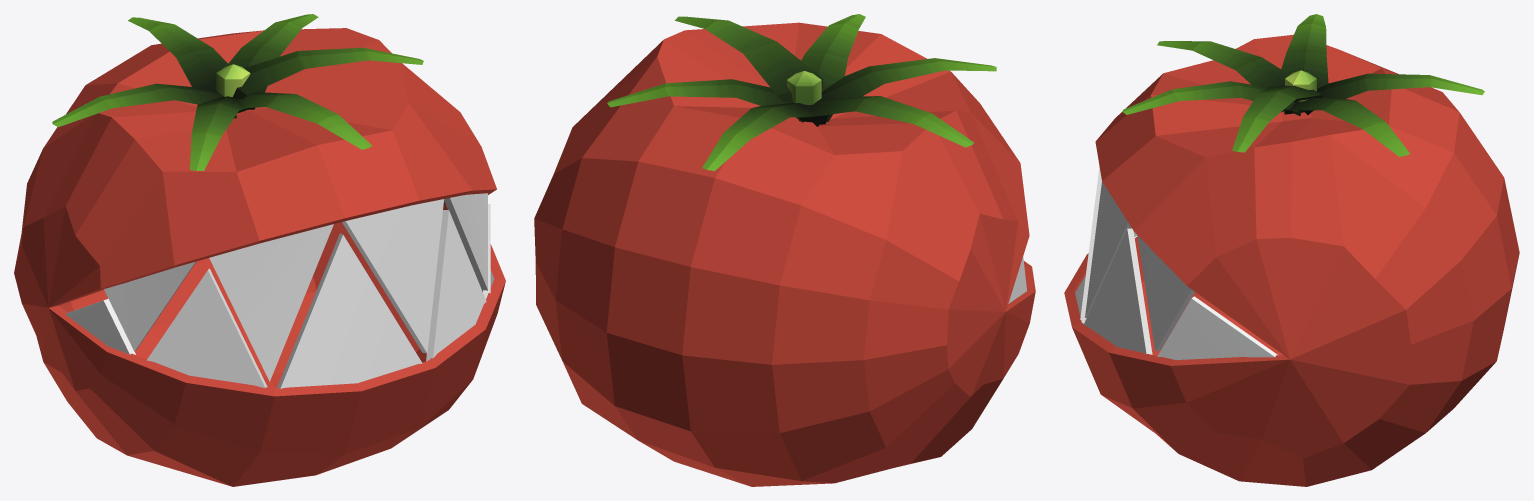
Rendered from Tomato_monster.fbx.
The picture shows the model from 3 angles, left to right: view 1: azimuth 30°, elevation 25°; view 2: azimuth 150°, elevation 25°; view 3: azimuth 270°, elevation 25°; orthographic projection. The views are drawn at different scales.
Visible parts, largest first — view 1: Tomato_monster; view 2: Tomato_monster; view 3: Tomato_monster.
Part boxes in pixels (x1=…): Tomato_monster: x1=14, y1=14, x2=505, y2=486; Tomato_monster: x1=534, y1=14, x2=1035, y2=486; Tomato_monster: x1=1064, y1=14, x2=1519, y2=486.
Size of the model in its own units: 61.39 by 60.51 by 54.09.
Materials: 1 (1 with a texture image).
